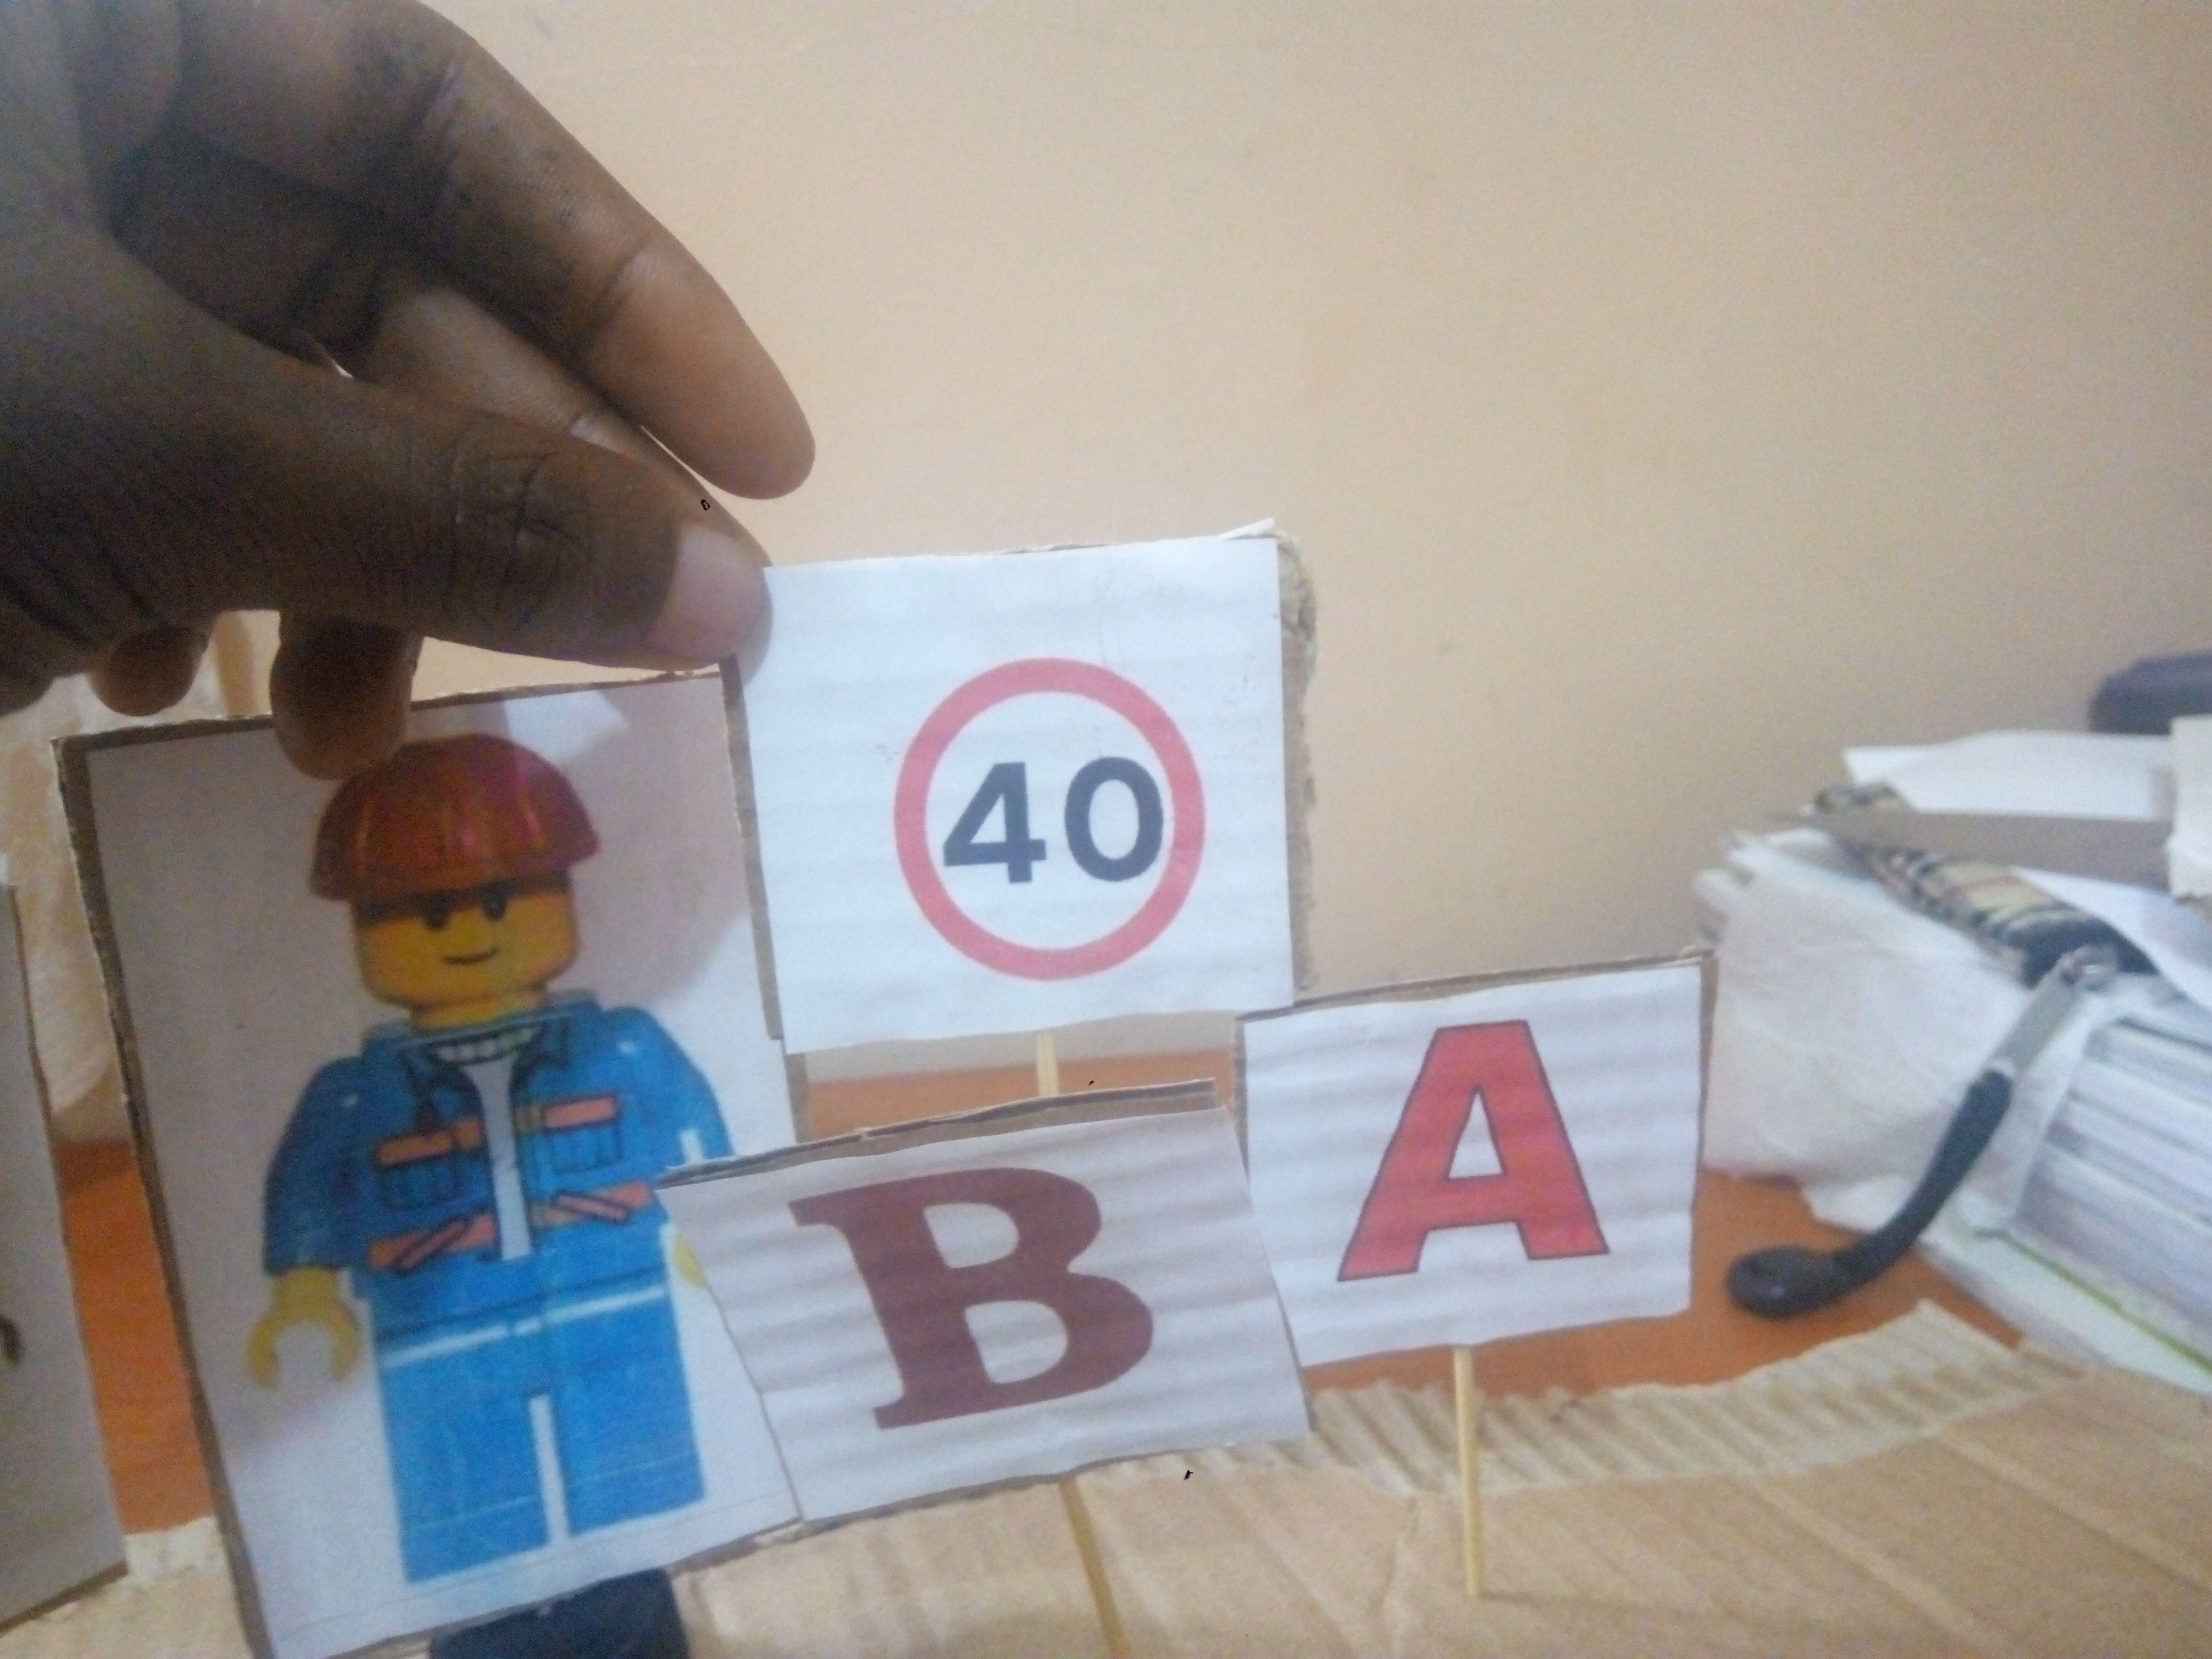40 kph: (893, 647, 1220, 984)
pedestrian: (222, 733, 761, 1559)
zone A: (1328, 1014, 1655, 1300)
zone B: (786, 1155, 1214, 1454)
